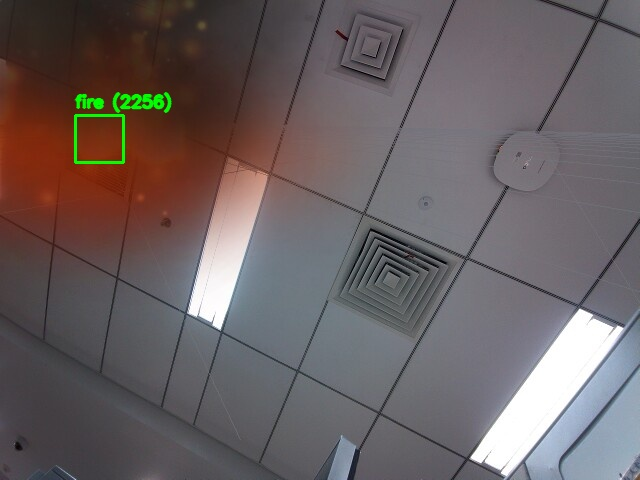fire: (75, 115, 123, 162)
